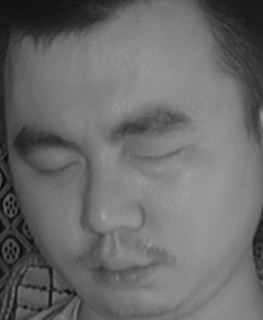blink: (135, 139, 184, 177), (32, 152, 80, 187)
mouth: (82, 244, 159, 295)
